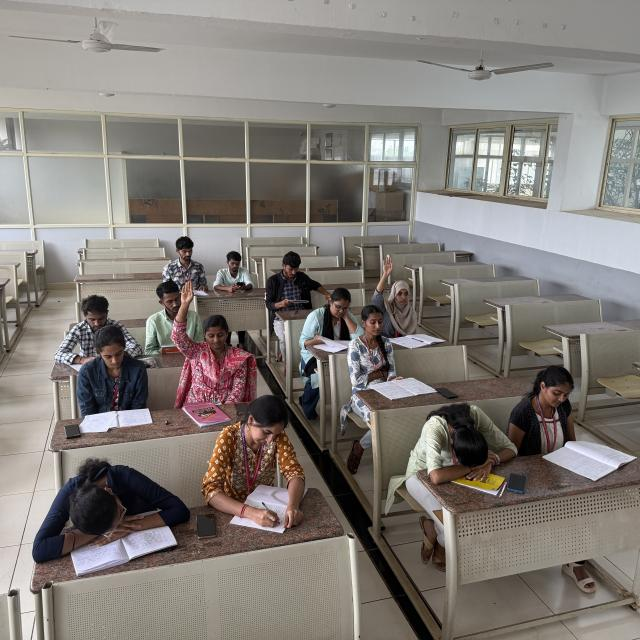Hand Rising: (172, 276, 250, 394), (373, 256, 423, 333)
Reading: (515, 366, 615, 471), (345, 304, 427, 397), (83, 330, 157, 430), (304, 286, 359, 353), (263, 250, 316, 312), (143, 281, 185, 358)
Sleeping: (28, 454, 187, 535), (408, 398, 520, 472)
Using Phone: (216, 247, 259, 296)
Writing: (205, 401, 314, 537), (167, 237, 216, 303)
